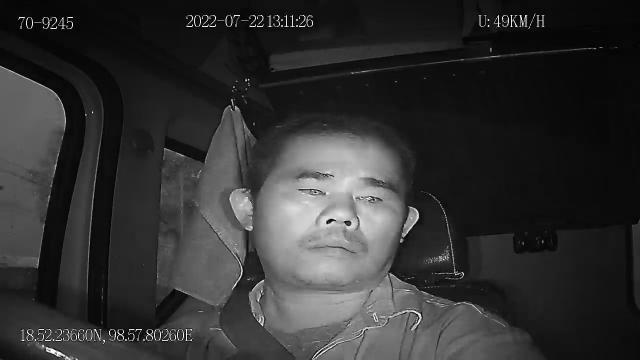SafeDriving: (288, 174, 337, 204), (348, 182, 394, 212)
Seatbelt: (217, 287, 299, 360)
